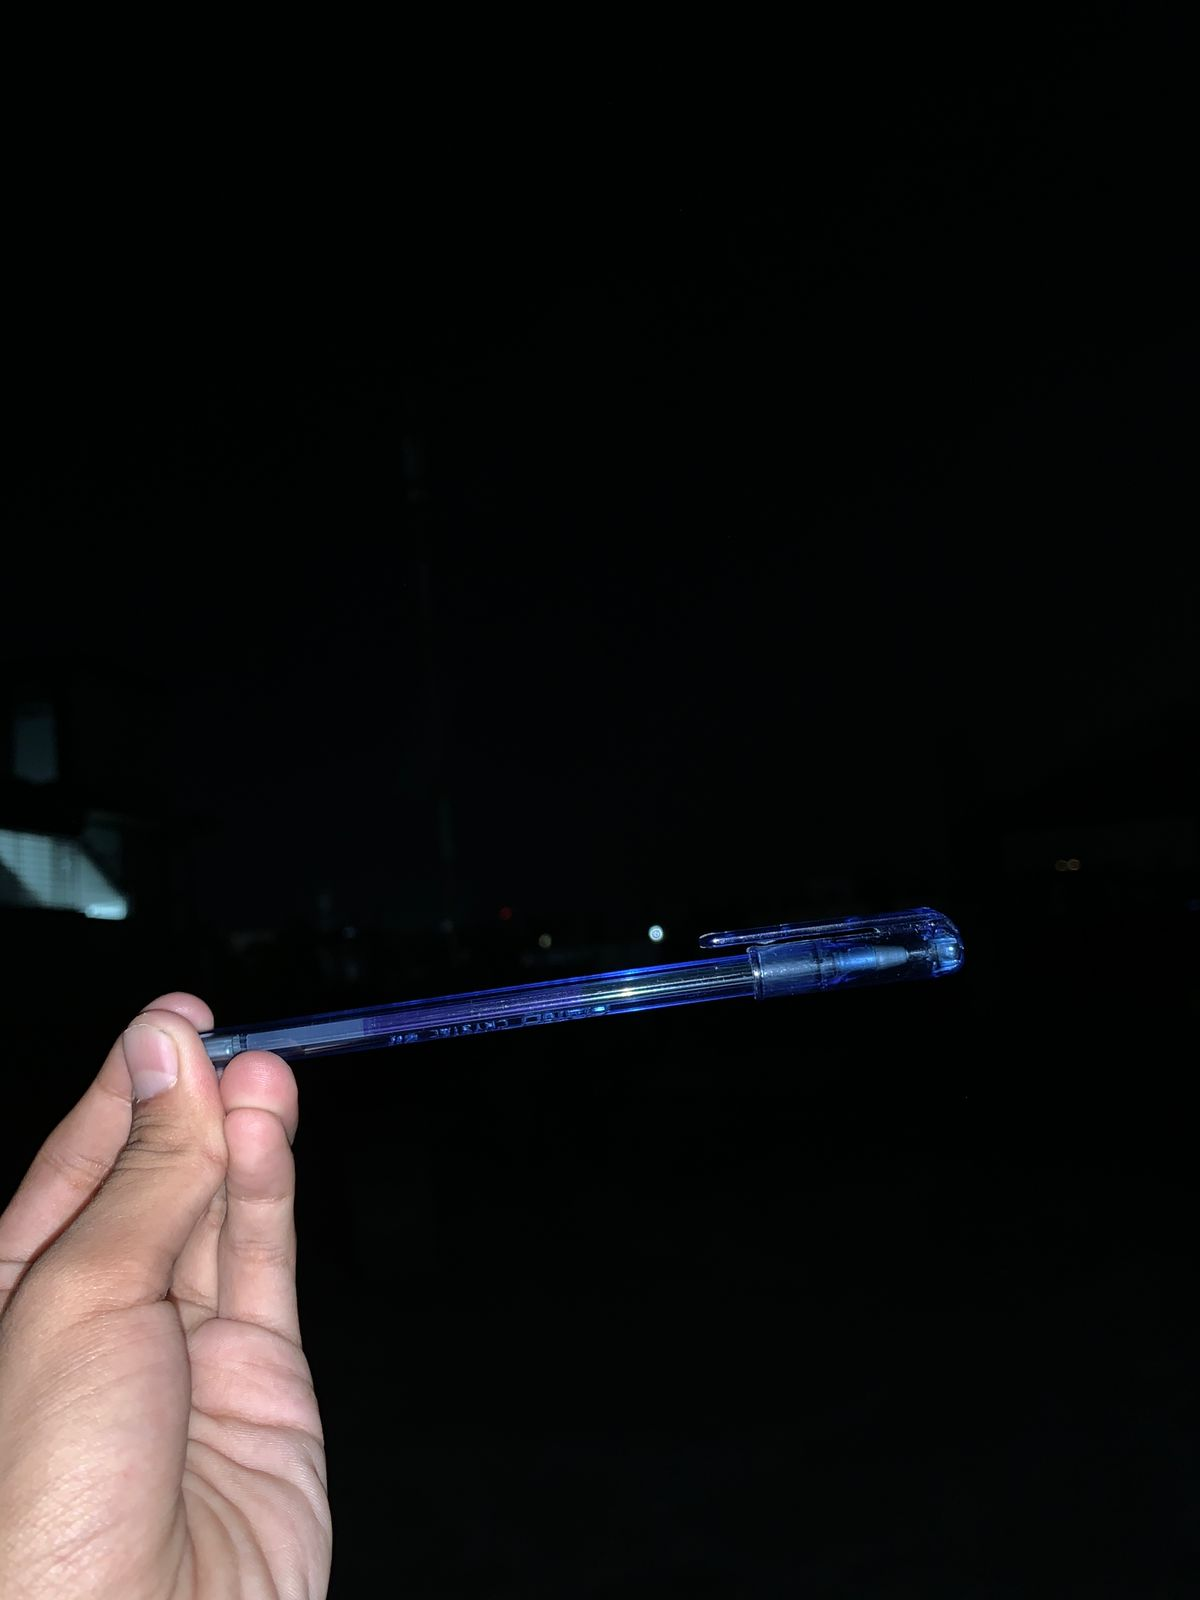pen: (97, 853, 1002, 1136)
